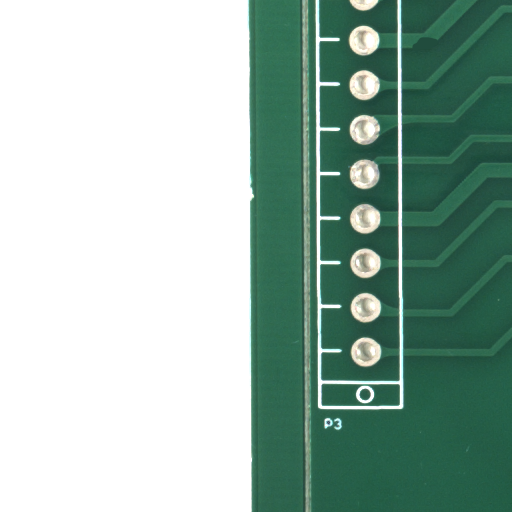Mouse_bite: (424, 43, 460, 61)
